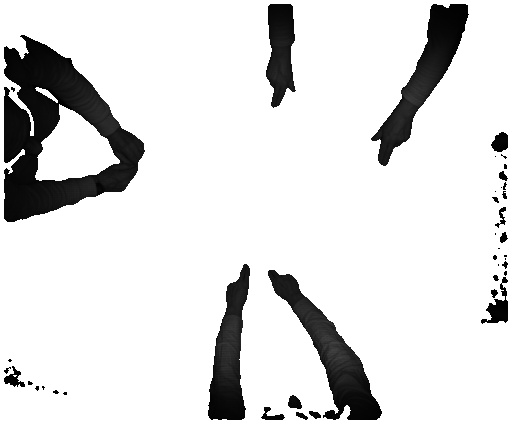fist: (102, 163, 143, 199), (111, 128, 149, 166)
hand: (368, 114, 415, 167), (264, 55, 295, 111), (265, 264, 303, 302), (224, 264, 254, 312)
